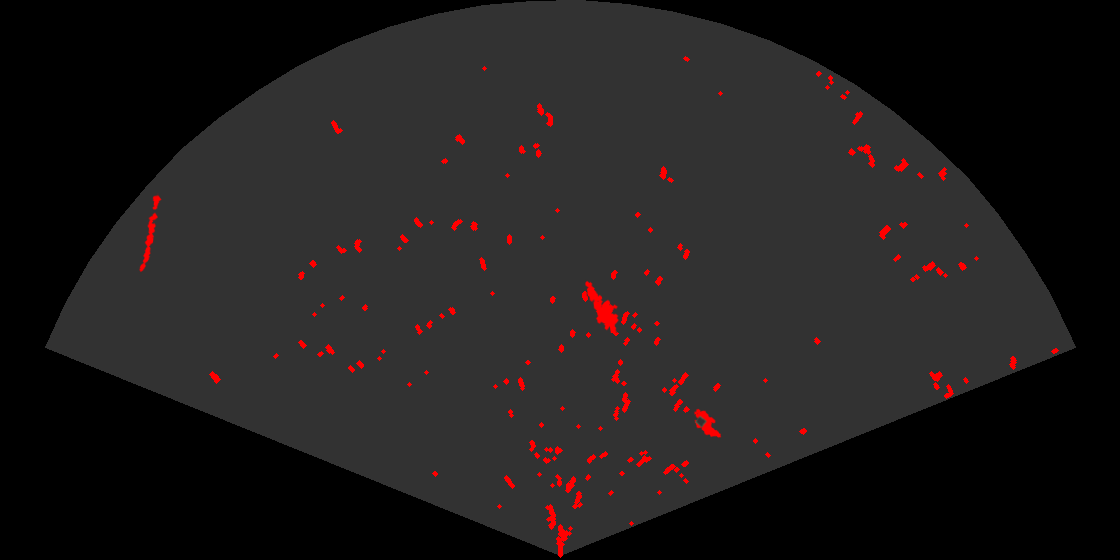AUV: (692, 407, 723, 439)
chain: (138, 193, 163, 274)
frogman: (584, 279, 621, 333)
